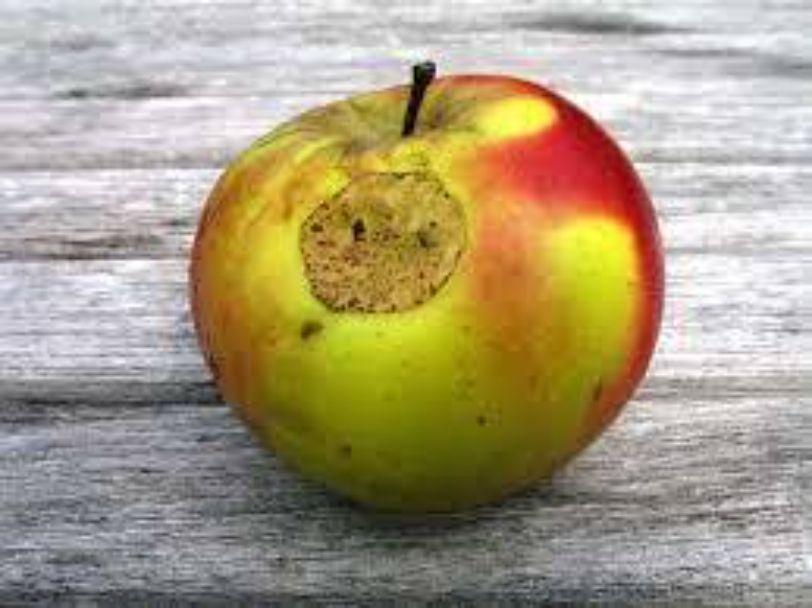SCAB: (183, 44, 685, 516)
